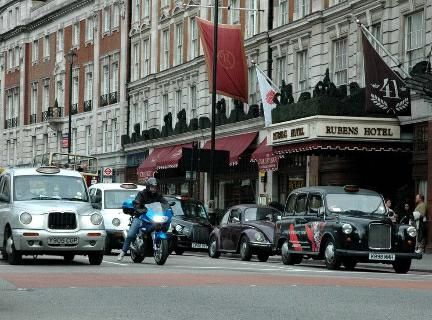吉利汽车-吉利EC8: (273, 184, 421, 274), (6, 167, 110, 265)
